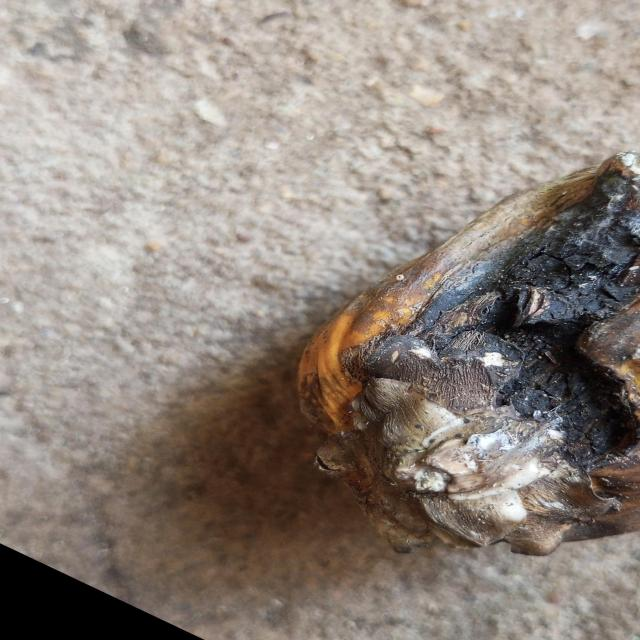damaged: (301, 159, 640, 555)
